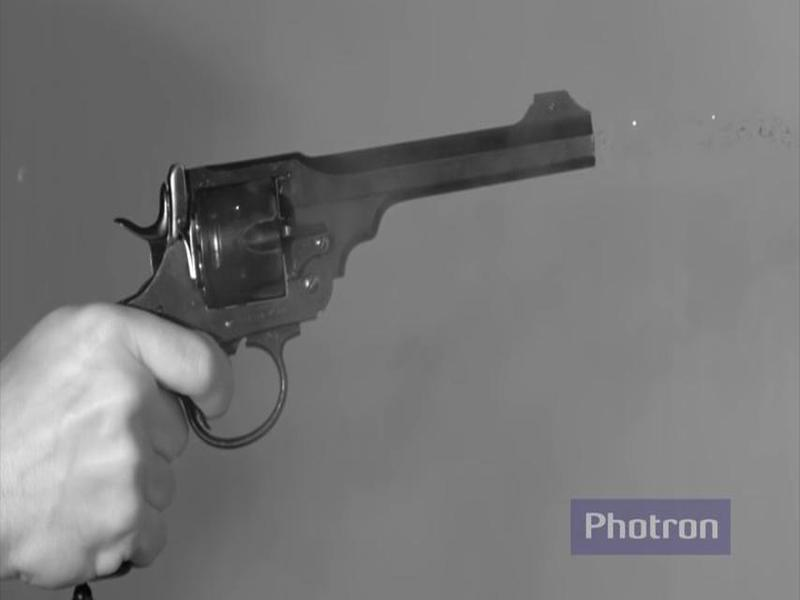Revolver: (123, 71, 617, 464)
